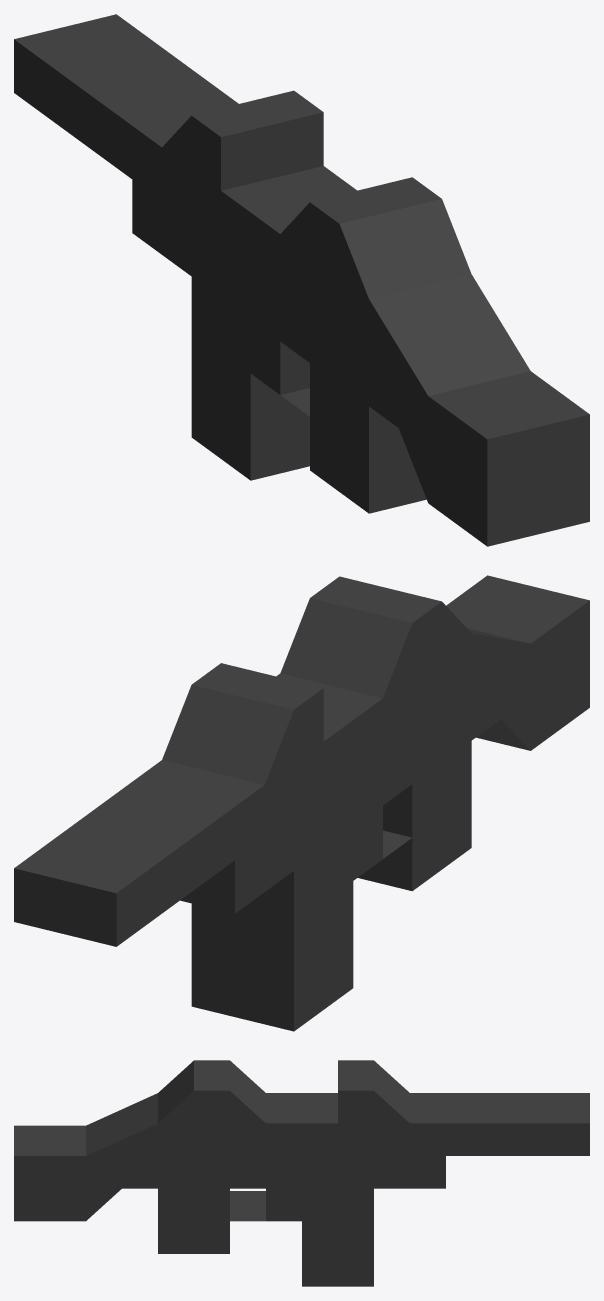
Rendered from phantom.gltf.
3 renders of one model, top to bottom at view 1: azimuth 30°, elevation 25°; view 2: azimuth 150°, elevation 25°; view 3: azimuth 270°, elevation 25°, orthographic. The views are drawn at different scales.
Visible parts, largest first — view 1: cuboid; view 2: cuboid; view 3: cuboid.
Boxes of the visible parts, x1=… form: cuboid: x1=14, y1=14, x2=589, y2=546; cuboid: x1=14, y1=575, x2=589, y2=1031; cuboid: x1=14, y1=1060, x2=589, y2=1286.
Size of the model in its own units: 0.125 by 0.375 by 1.
1 material, 1 textured.
